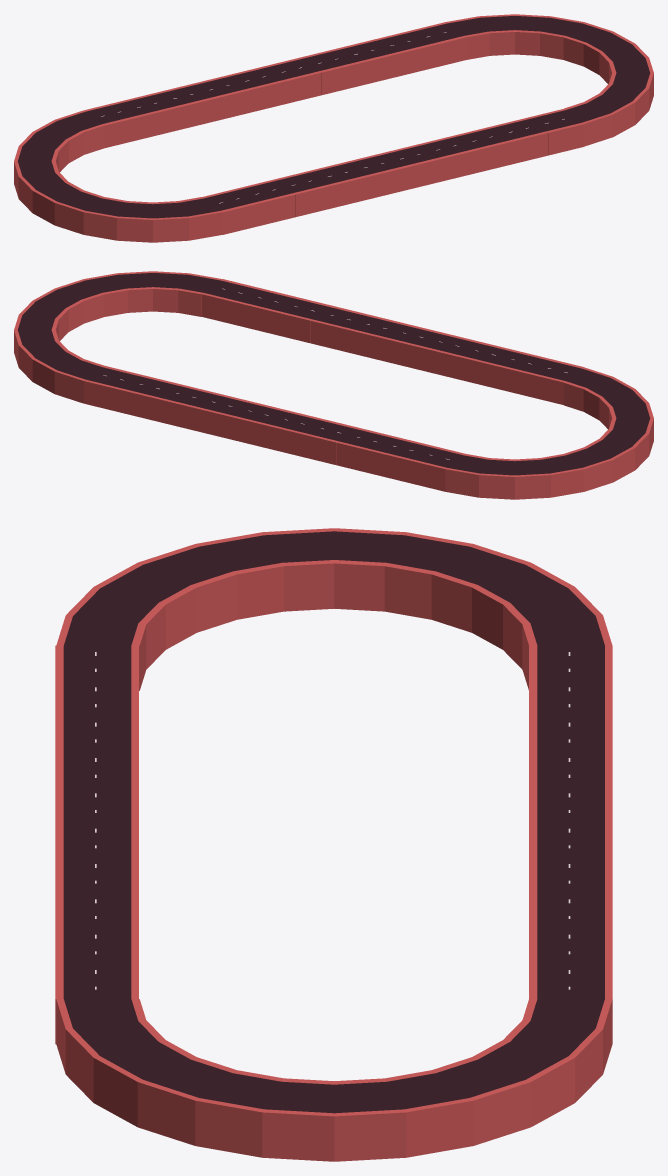
File: loop.glb
3 views of the same model, one above another, from view 1: azimuth 30°, elevation 25°; view 2: azimuth 150°, elevation 25°; view 3: azimuth 270°, elevation 25° (orthographic). The views are drawn at different scales.
Visible parts, largest first — view 1: loop; view 2: loop; view 3: loop.
Boxes of the visible parts, x1,y1,x2,y2 form: loop: (14,14,653,242); loop: (14,271,653,499); loop: (55,528,612,1161).
Bounding box in the file's own units: 999 × 35.94 × 400.
Materials: 1 (1 with a texture image).
